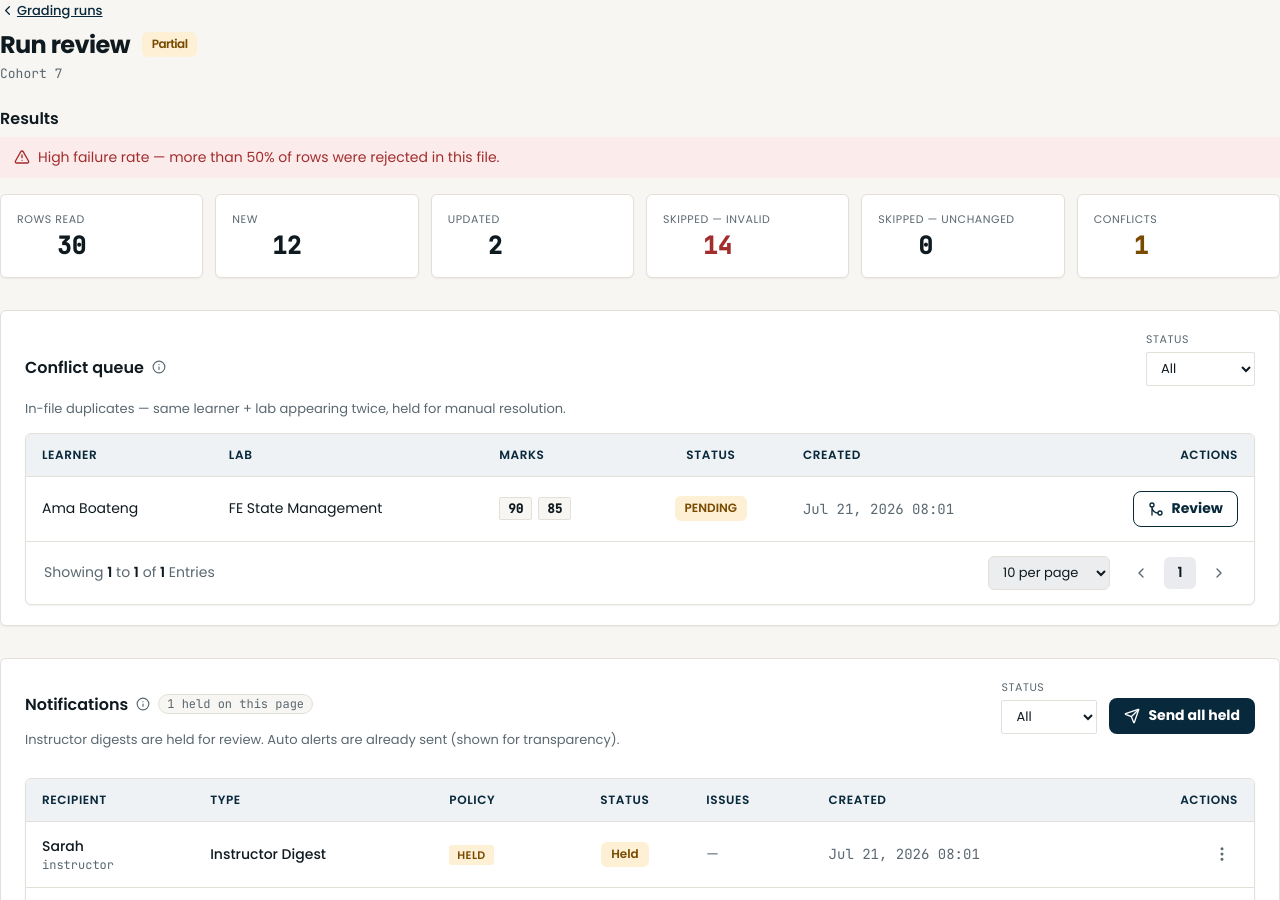
RunReviewView › shows the trainee name, lab title and both marks for a duplicate with two candidates, not raw ids/JSON
Full location detail lives in the resolution drawer.
Click the button "Review".
click(1185, 508)  # box [1133,490,1238,526]
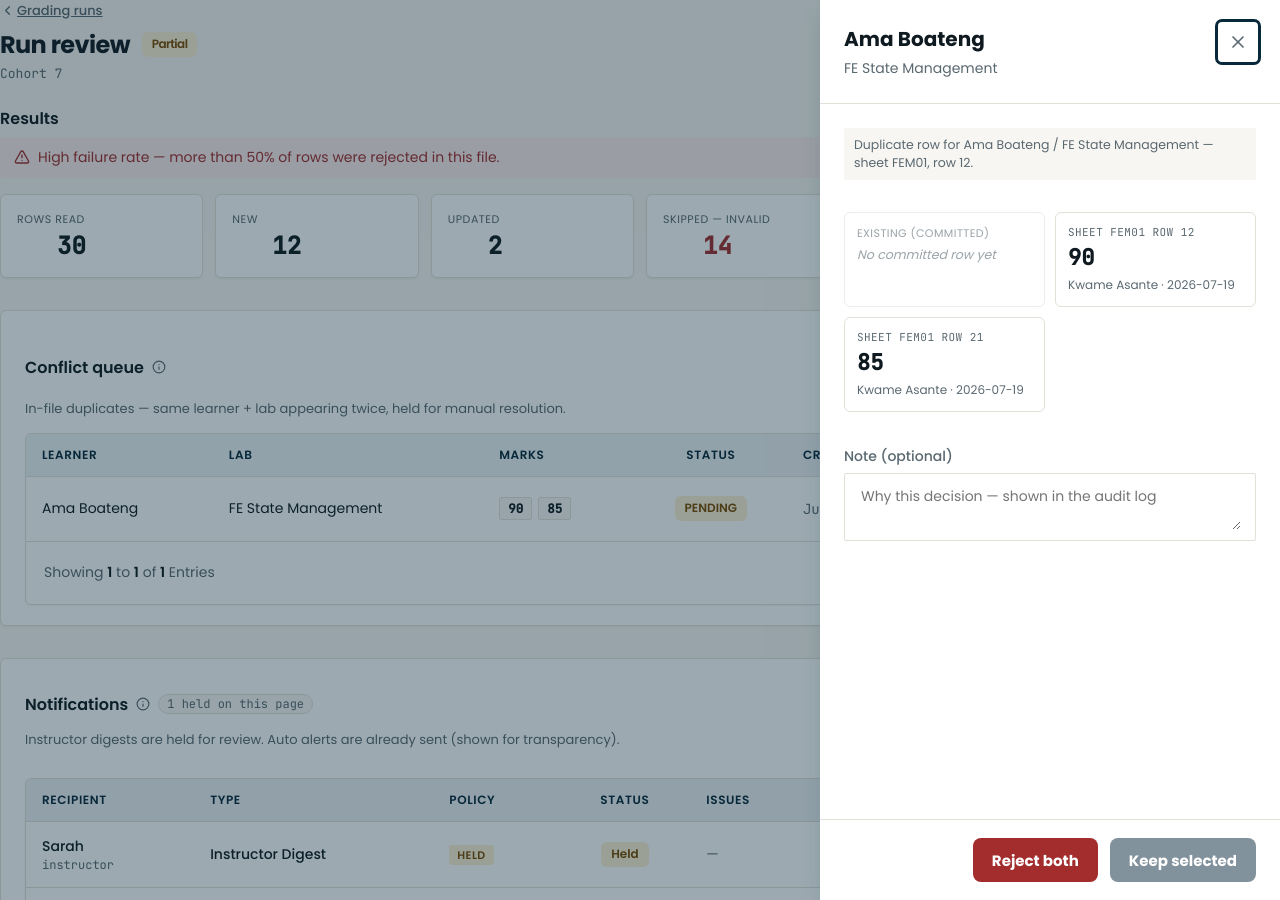
Expected: the text "sheet FEM01 row 12" is shown, [1068,225,1215,239]
Expected: the text "sheet FEM01 row 21" is shown, [857,330,1004,344]
